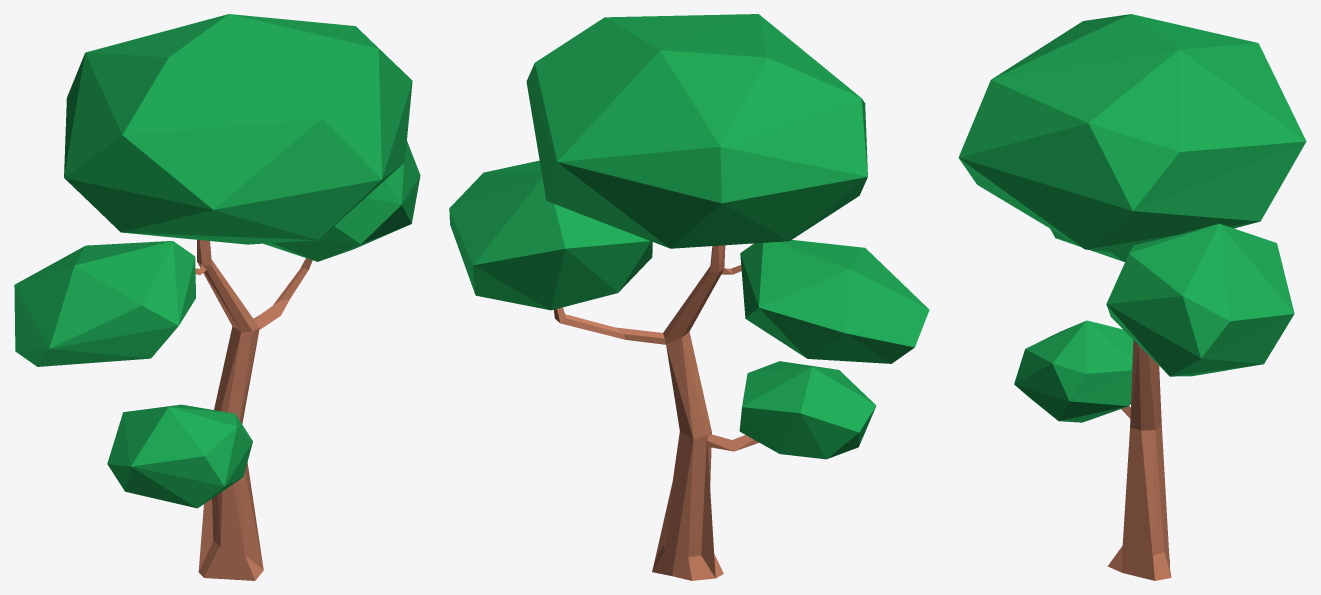
The model's file is LowPoly_Tree3.fbx.
3 views of the same model, side by side, from view 1: azimuth 30°, elevation 25°; view 2: azimuth 150°, elevation 25°; view 3: azimuth 270°, elevation 25° (orthographic). The views are drawn at different scales.
Visible parts, largest first — view 1: Cylinder; view 2: Cylinder; view 3: Cylinder.
Part boxes in pixels (x1=…): Cylinder: x1=14, y1=14, x2=420, y2=580; Cylinder: x1=449, y1=14, x2=929, y2=580; Cylinder: x1=958, y1=14, x2=1306, y2=580.
Bounding box in the file's own units: 699 × 818 × 494.
